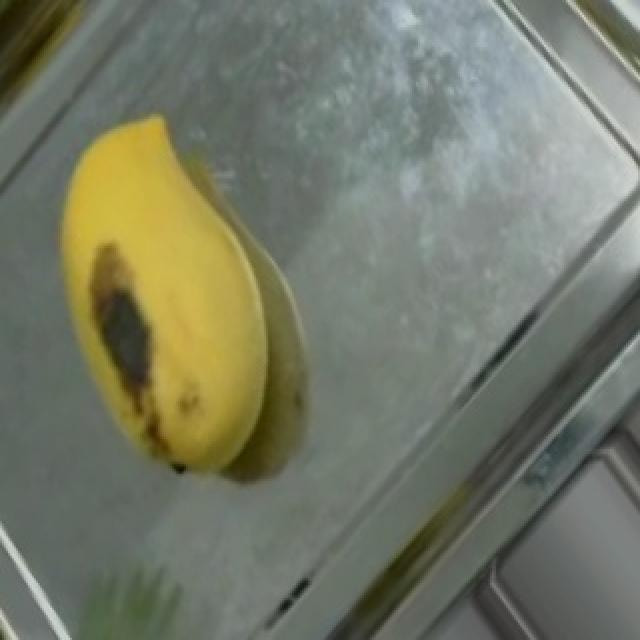fruit: (8, 77, 368, 479)
